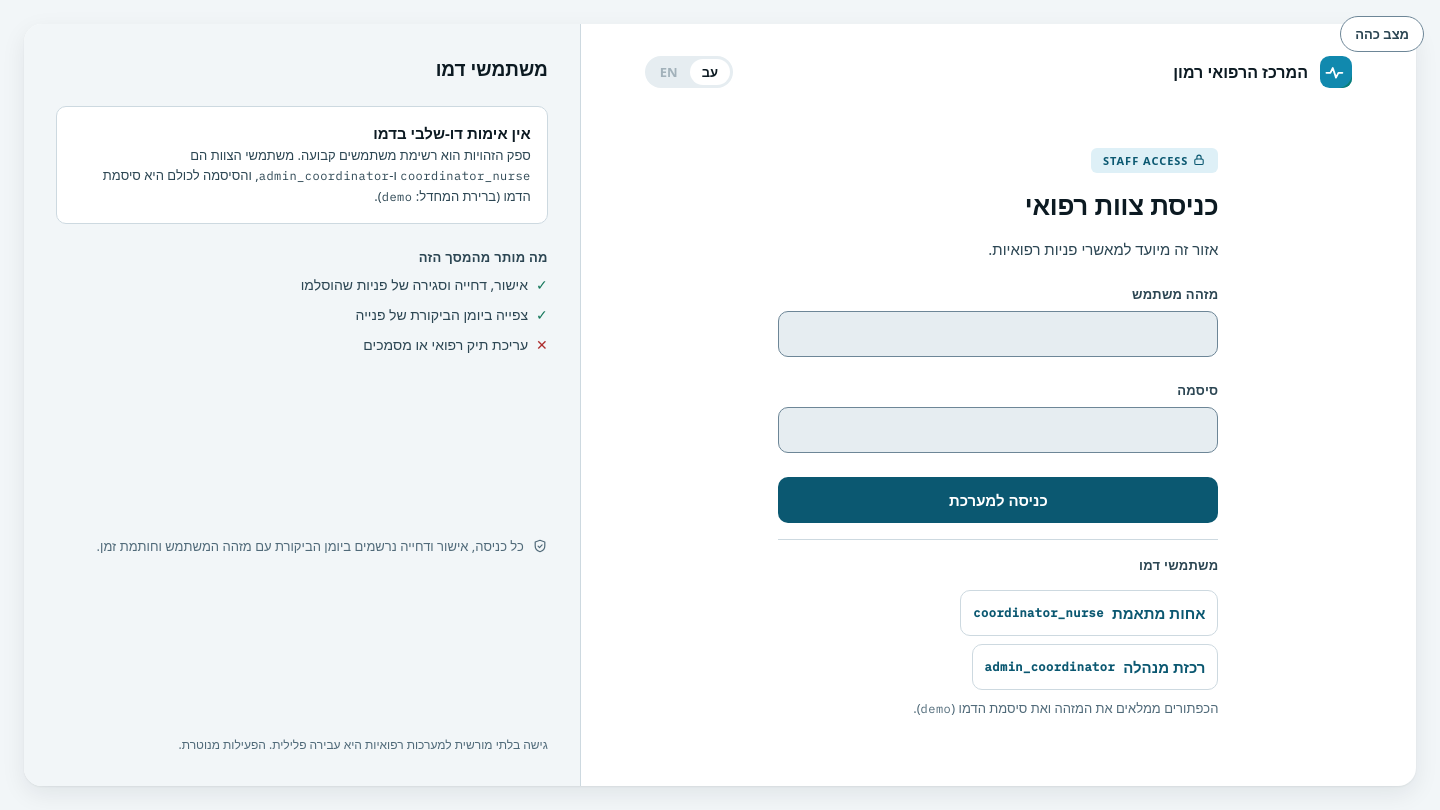
Scenario: StaffLogin › fills the id and the demo password from a demo-user button
Click the button "אחות מתאמת coordinator_nurse": (1089,612) [960,590,1218,636]
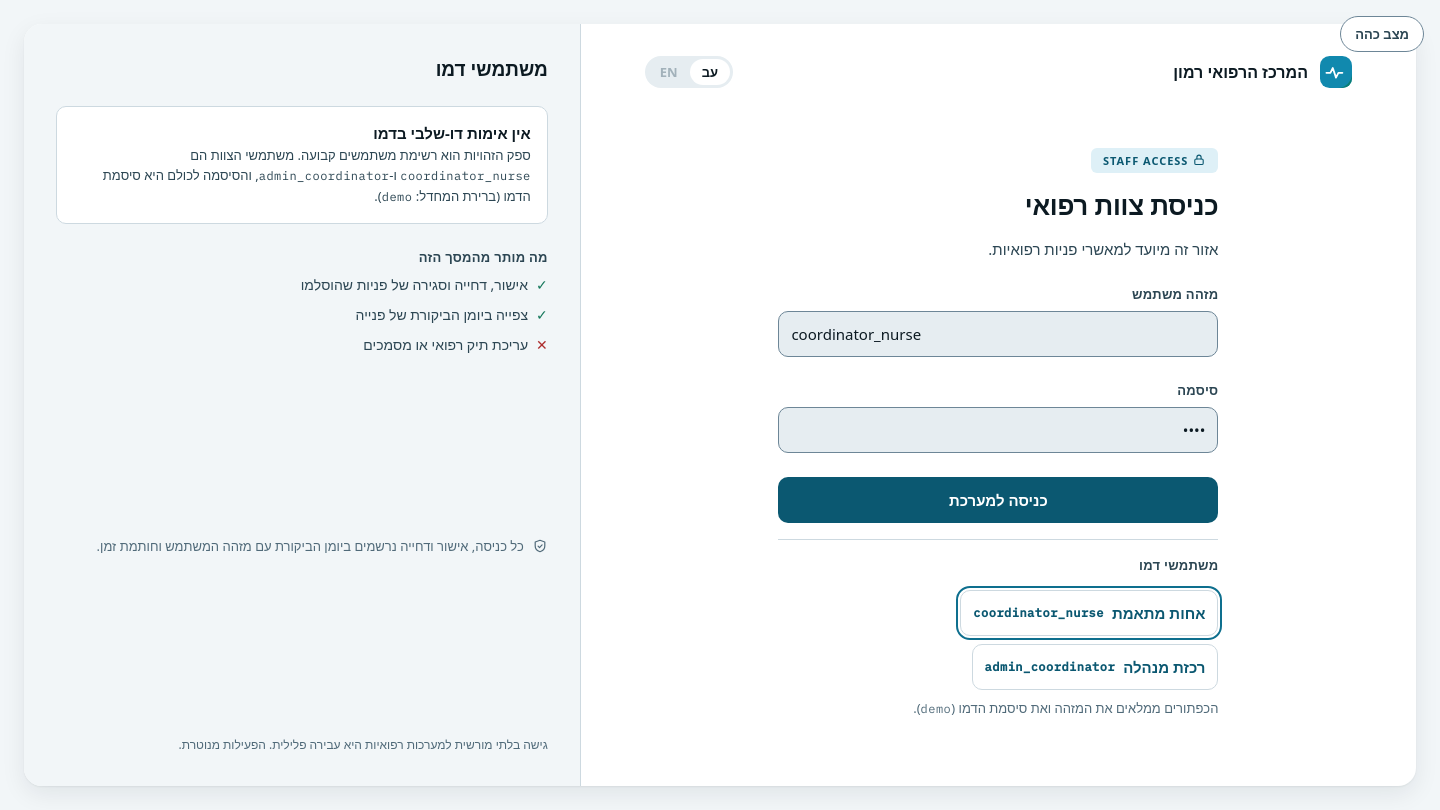
Result: the field labelled "מזהה משתמש" holds "coordinator_nurse" at [779,312,1217,356]
Result: the password field labelled "סיסמה" holds "demo" at [779,408,1217,452]
